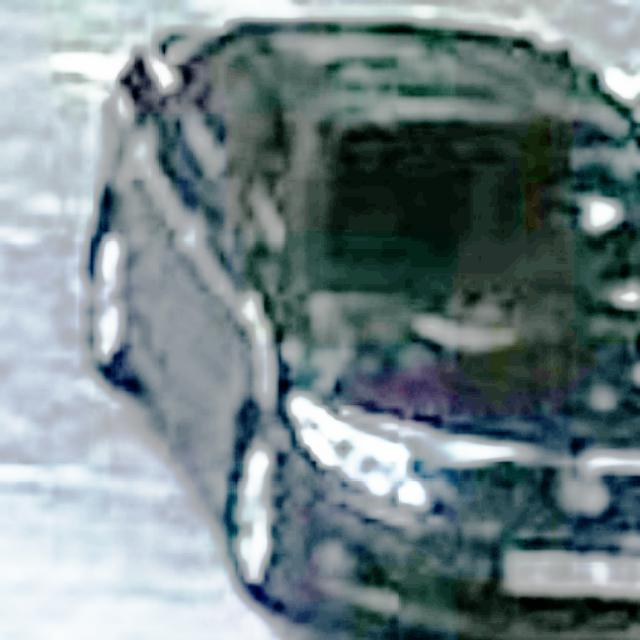Car: (51, 9, 640, 640)
